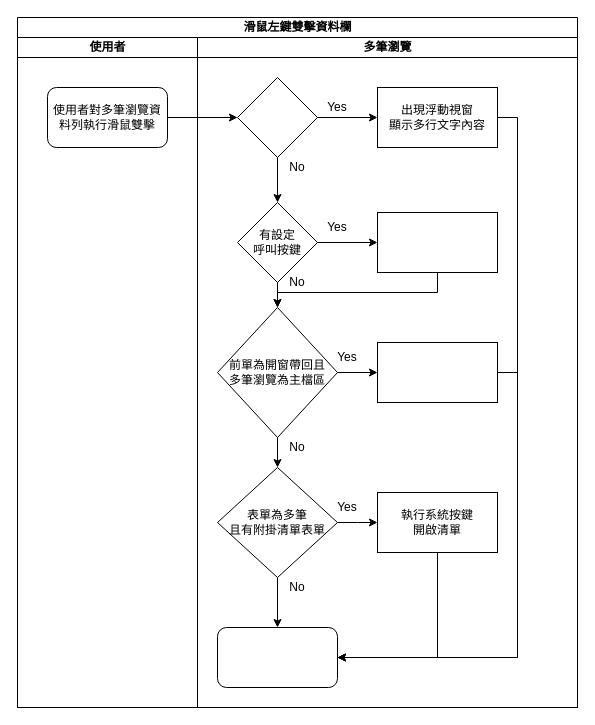
Image size: 595x725. Some labels were removed from this diagram. Here are the shapes that lost their labels. From the top down, the centre of each, then its label:
point (277, 117): 雙擊欄位為 多行文字
point (437, 242): 執行按鍵
point (437, 372): 執行系統按鍵 開窗帶回
point (277, 657): 執行完畢
